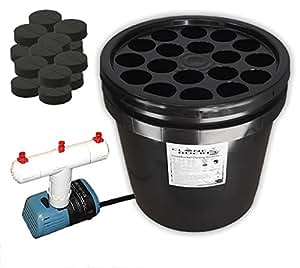basket: (98, 8, 294, 228)
